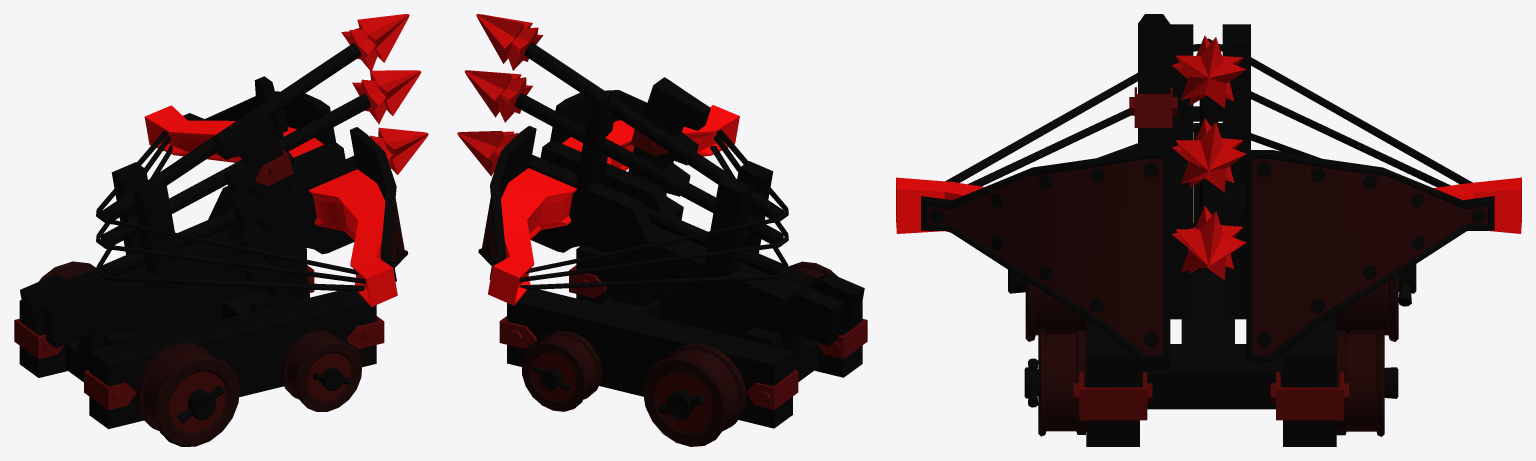
Rendered from Balista.fbx.
3 views of the same model, side by side, from view 1: azimuth 30°, elevation 25°; view 2: azimuth 150°, elevation 25°; view 3: azimuth 270°, elevation 25° (orthographic). The views are drawn at different scales.
Parts seen in each view (by area): view 1: elite001; view 2: elite001; view 3: elite001.
Boxes of the visible parts, x1=… form: elite001: x1=14, y1=14, x2=428, y2=446; elite001: x1=457, y1=14, x2=867, y2=446; elite001: x1=896, y1=14, x2=1521, y2=446.
Bounding box in the file's own units: 16333 × 12865 × 15951.
